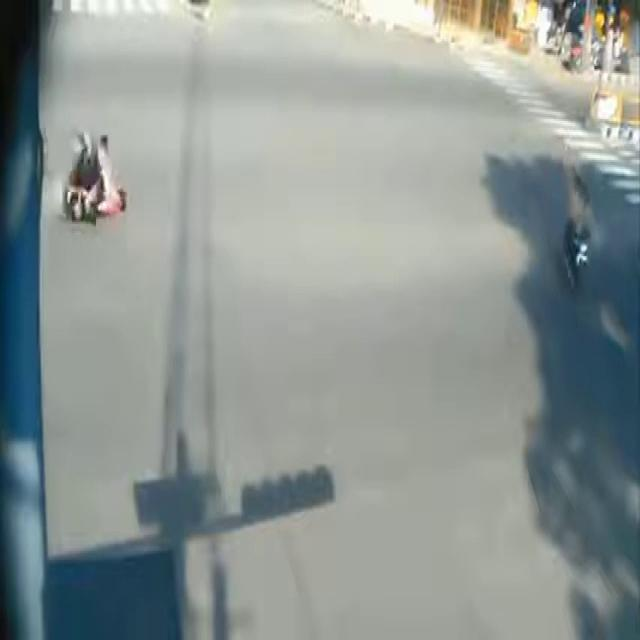accident: (62, 107, 134, 257)
